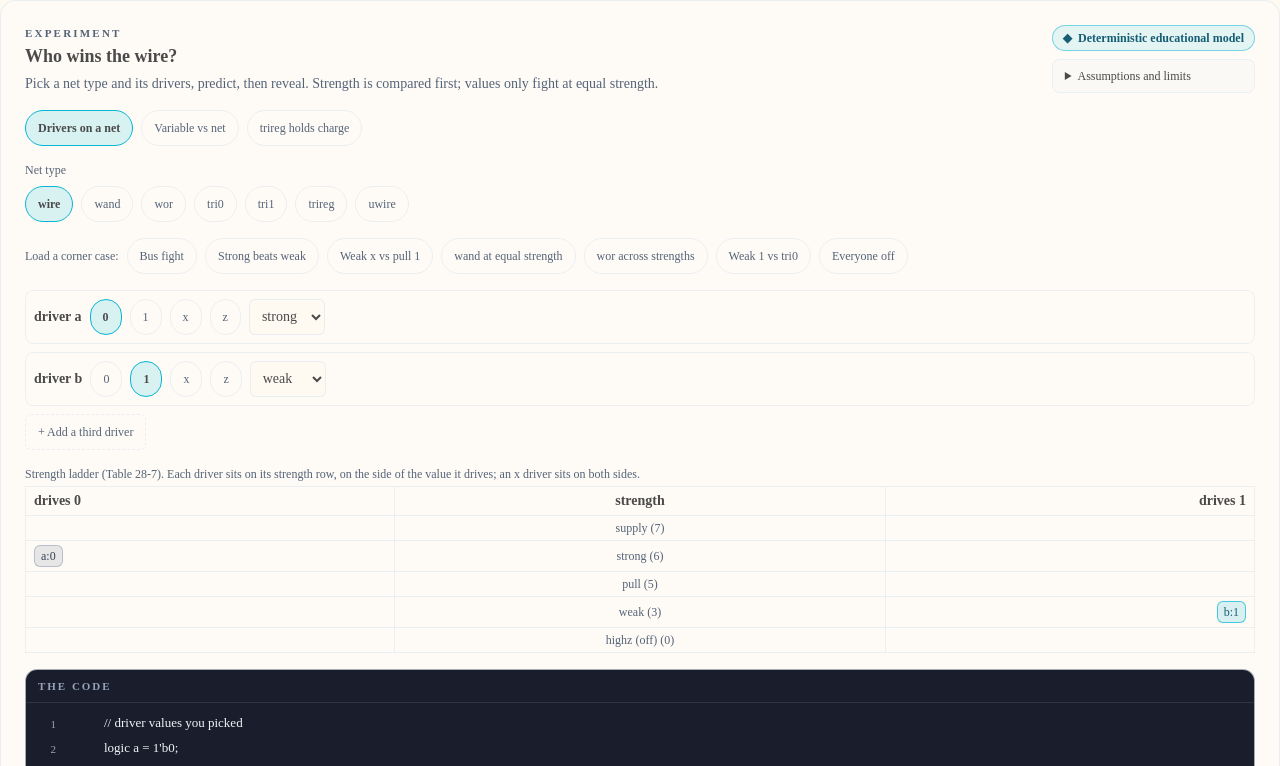
Test case: NetResolutionSimulator › equal-strength opposite drivers on a wire resolve to StX
Click the button "Bus fight": (162, 256) [127,238,197,274]
(page scrolled)
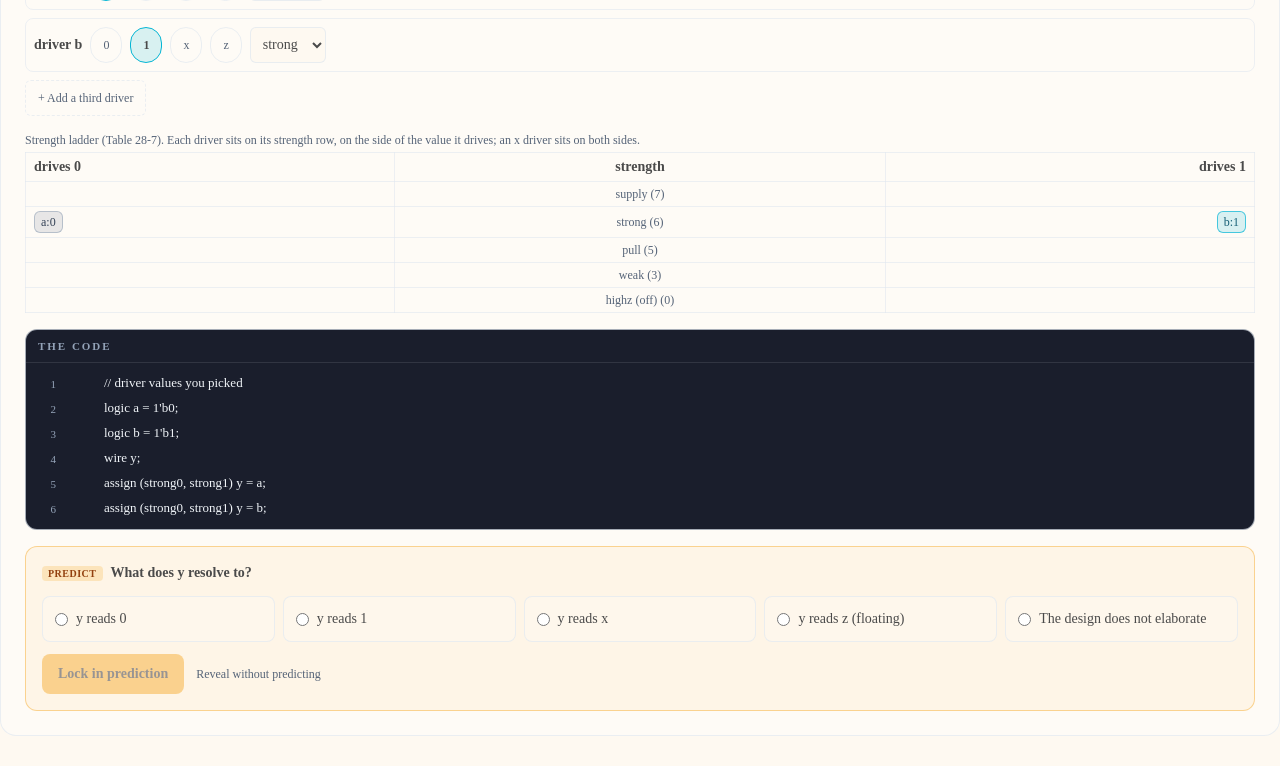
Click the radio button labelled "y reads x": (543, 620) [537,613,550,626]
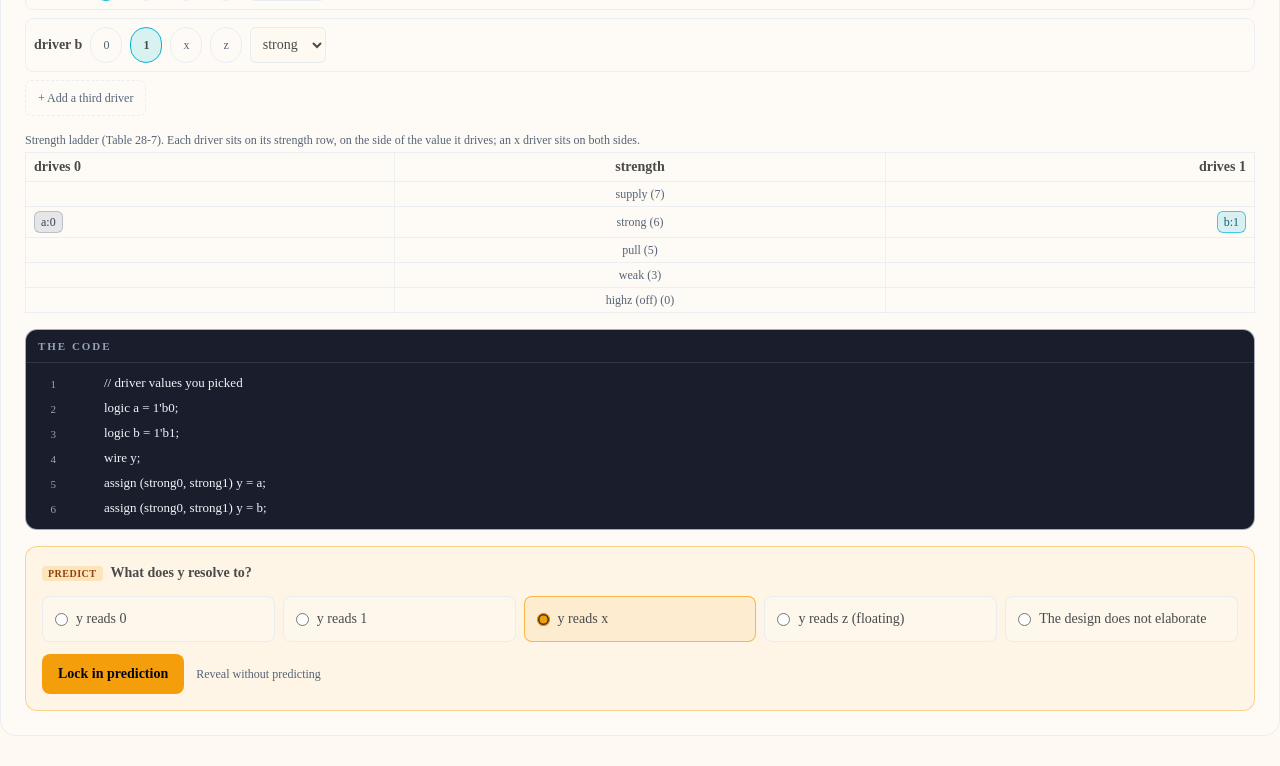
Click the button "Lock in prediction": (113, 674) [42,654,184,694]
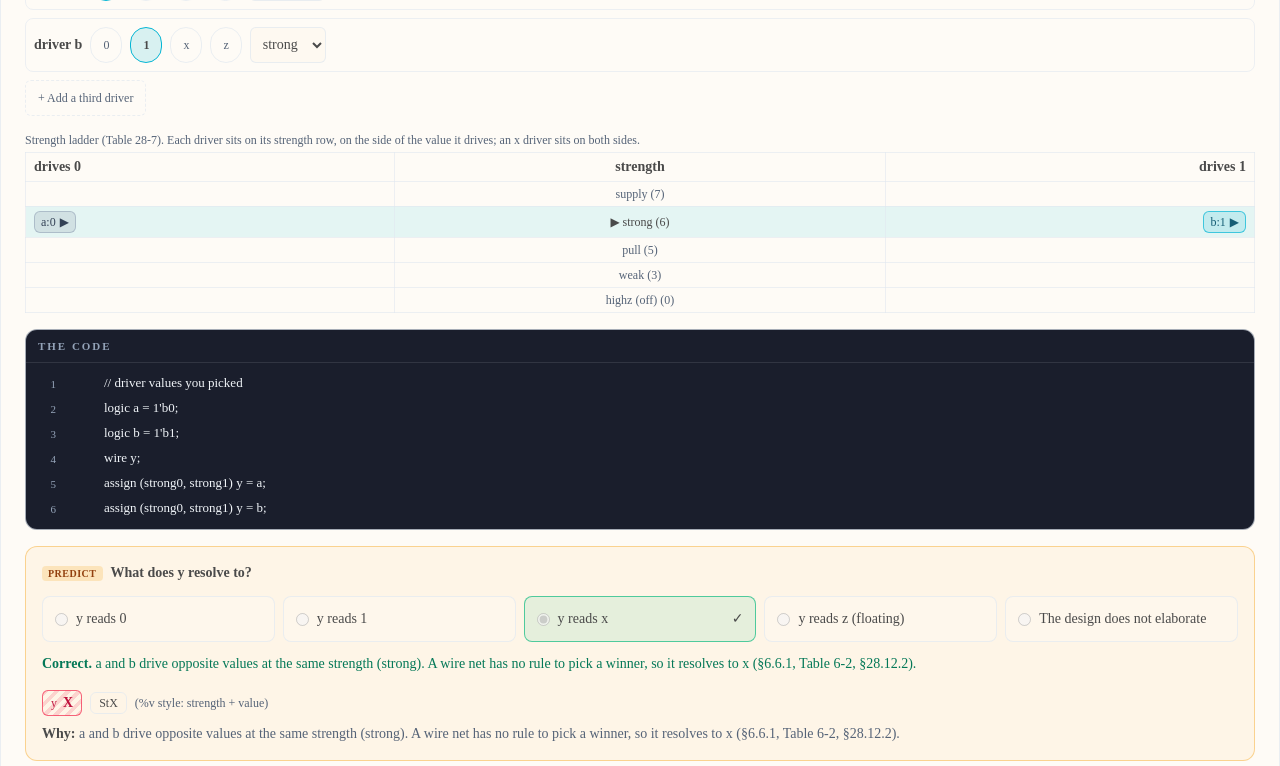
Expected: the text "Correct." is shown, [42,656,95,671]
Expected: the text named "strength and value StX" is shown, [90,692,127,714]
